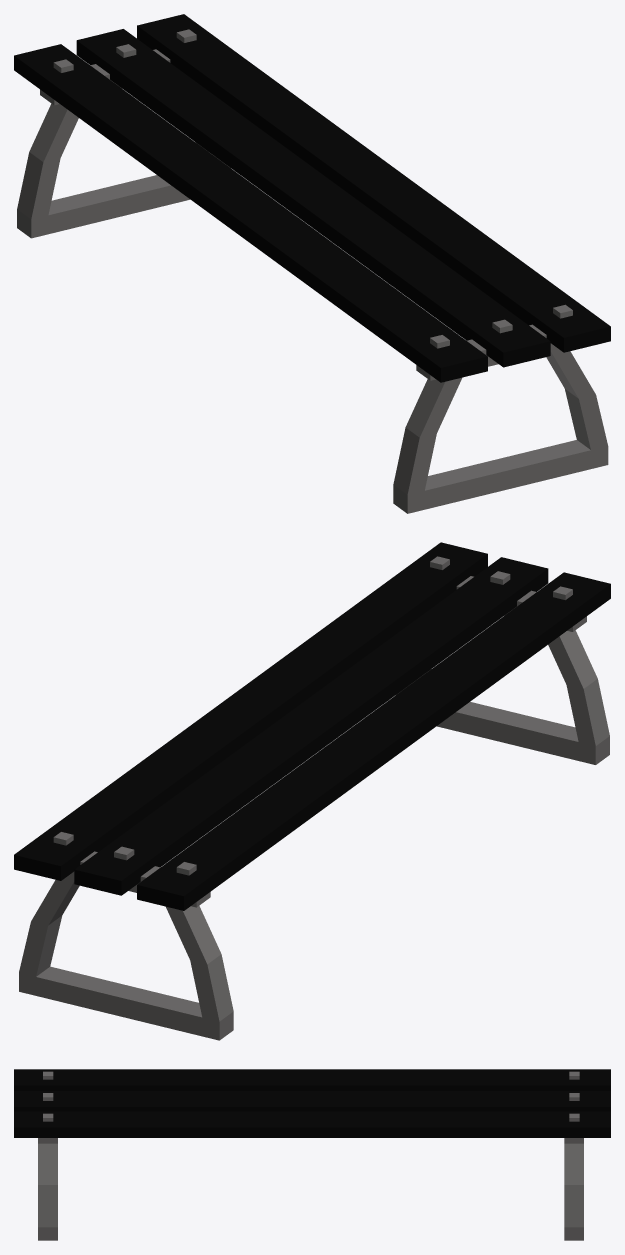
Rendered from bench.fbx.
3 views of the same model, one above another, from view 1: azimuth 30°, elevation 25°; view 2: azimuth 150°, elevation 25°; view 3: azimuth 270°, elevation 25° (orthographic). The views are drawn at different scales.
Visible parts, largest first — view 1: bench; view 2: bench; view 3: bench.
Boxes of the visible parts, x1,y1,x2,y2 form: bench: [14, 14, 610, 513]; bench: [14, 542, 610, 1040]; bench: [14, 1069, 610, 1240].
Bounding box in the file's own units: 0.8005 × 0.6094 × 2.95.
